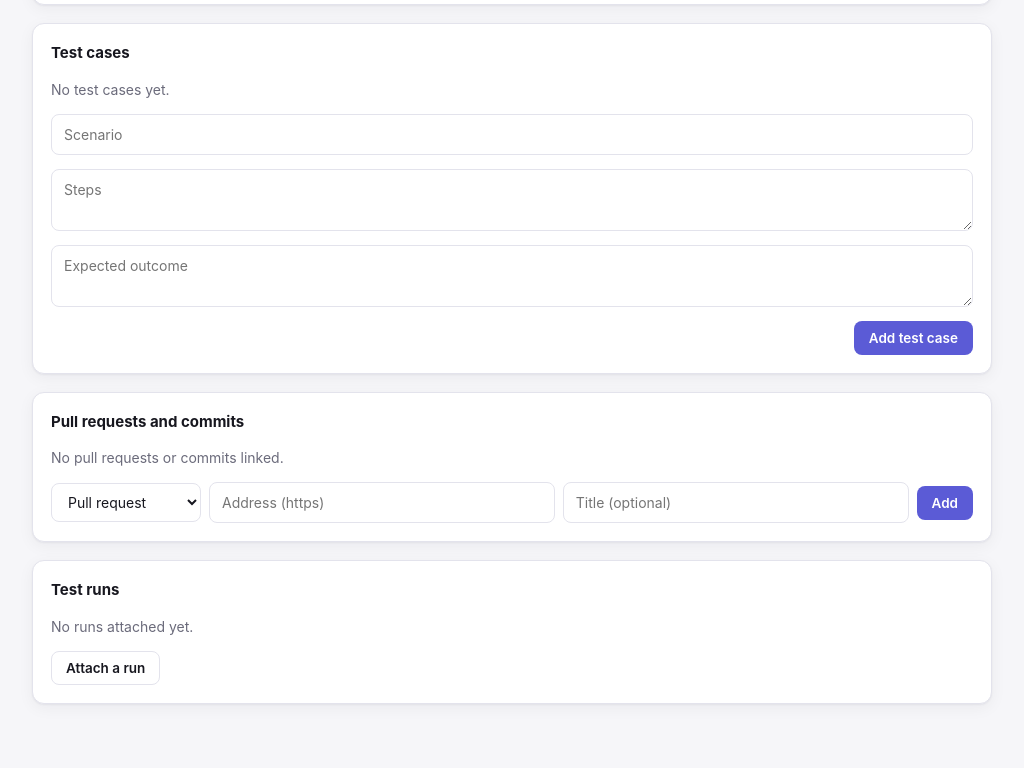
pull requests and commits › shows the API's refusal and keeps what was typed
(page scrolled)
Step 1. Type "https://git.example.org/pr/1" into the field labelled "Address (https)" → (382, 502), box [209,482,555,523]
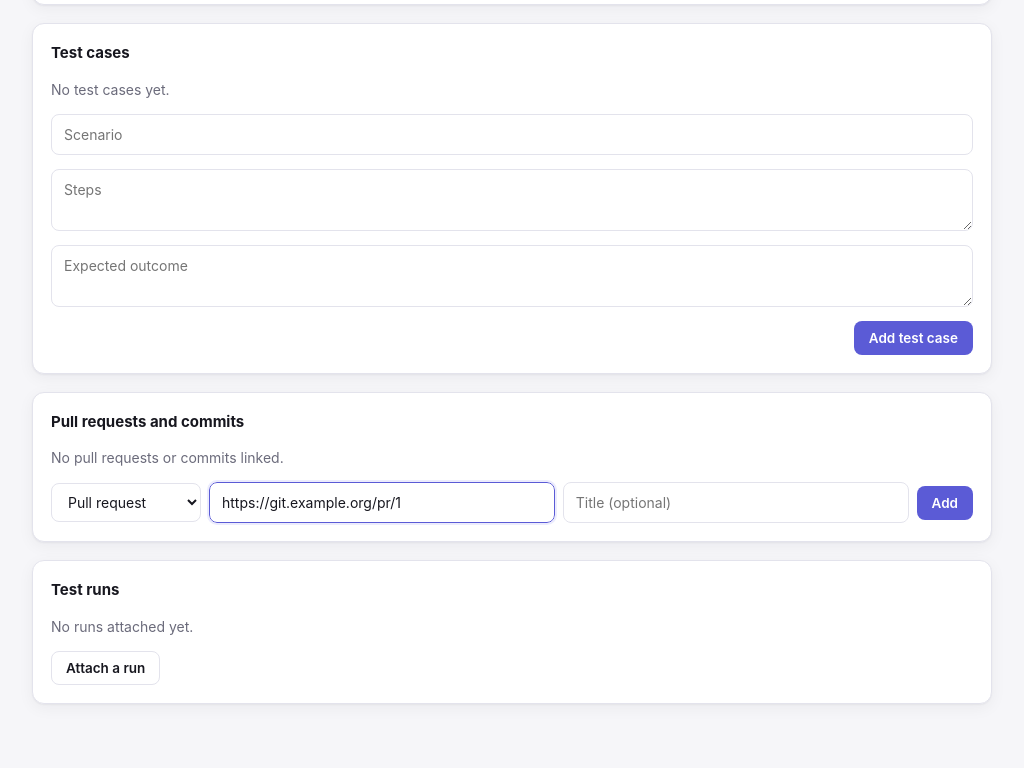
Step 2. Click the button "Add" → click(945, 502), box [916,486,973,520]
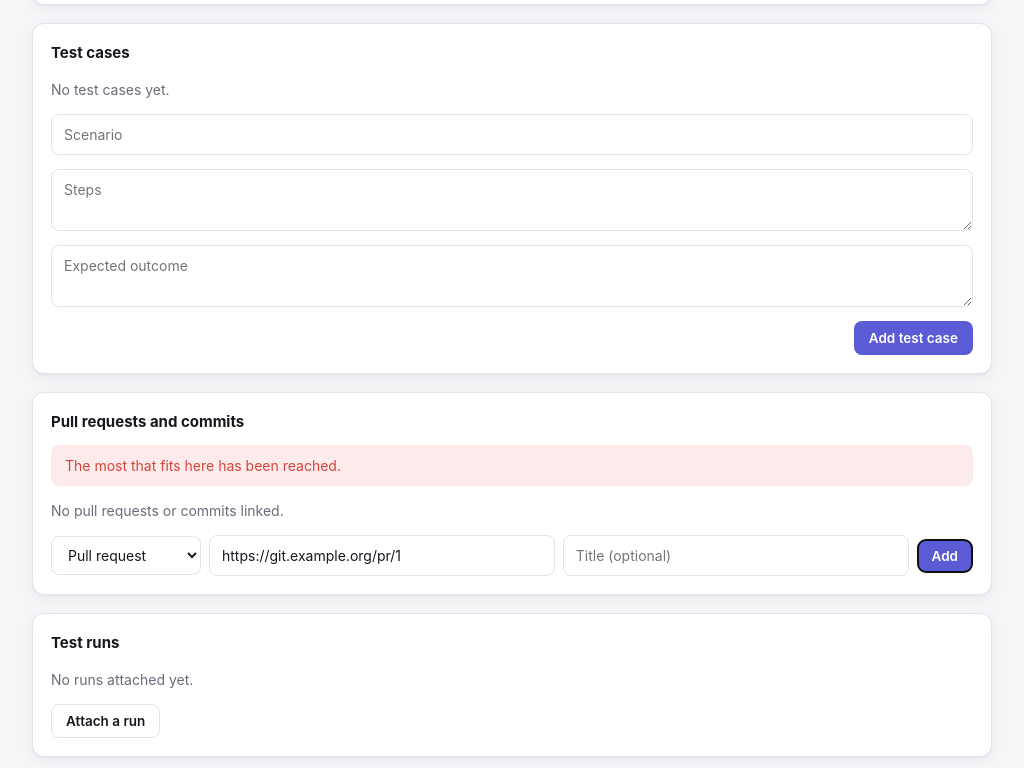
Expected: the text "The most that fits here has been reached." is shown, [51,445,973,486]
